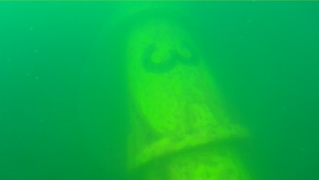3: (141, 40, 201, 73)
pipe: (108, 1, 254, 179)
